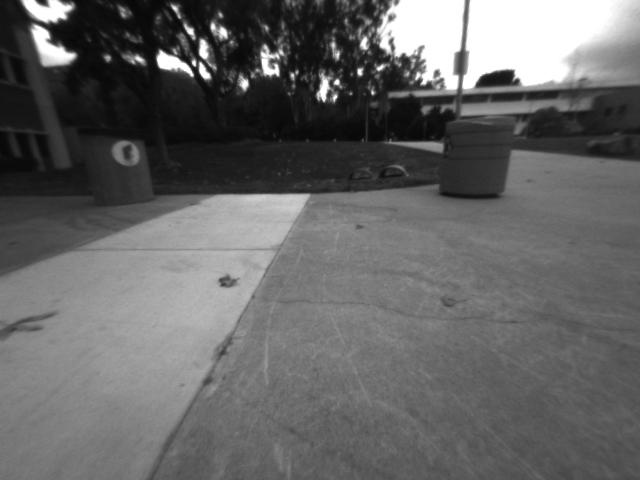trashcan: (441, 117, 511, 208), (86, 126, 157, 211)
